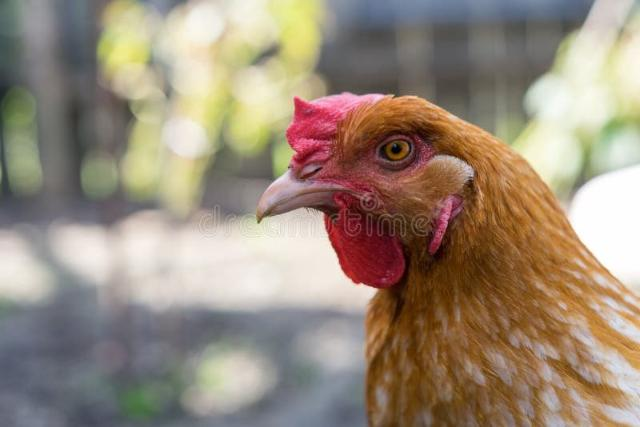Chicken: (256, 90, 640, 427)
